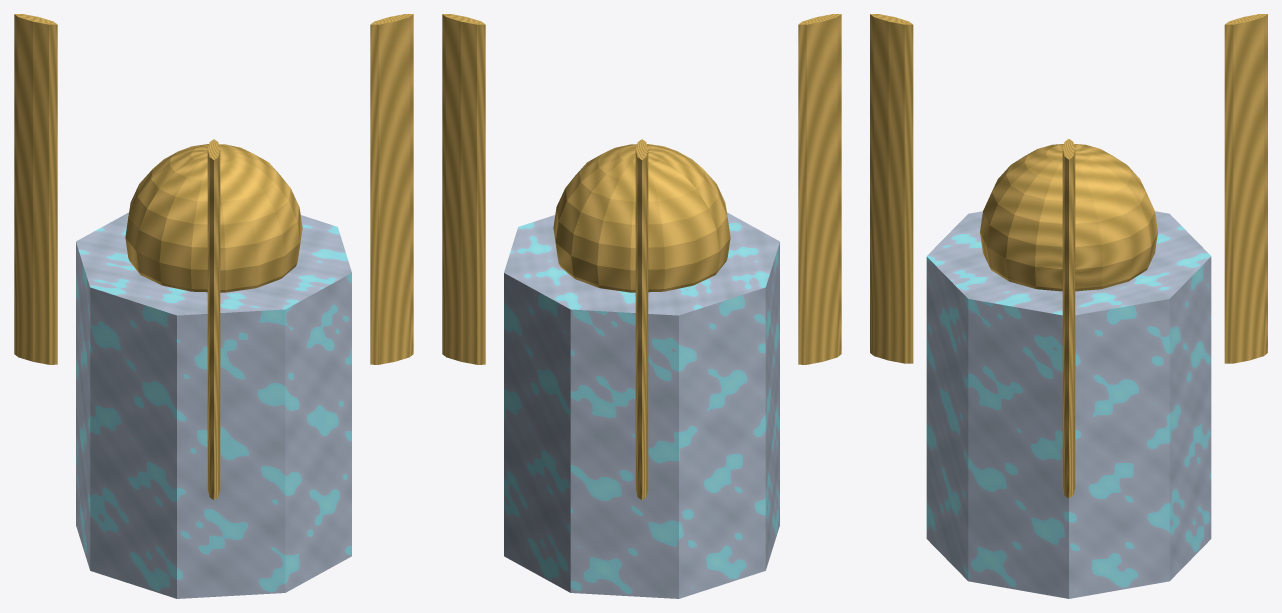
The model's file is vayu_windmill.glb.
The picture shows the model from 3 angles, left to right: view 1: azimuth 30°, elevation 25°; view 2: azimuth 150°, elevation 25°; view 3: azimuth 270°, elevation 25°; orthographic projection.
Parts seen in each view (by area): view 1: VayuWindTurbine; view 2: VayuWindTurbine; view 3: VayuWindTurbine.
Part boxes in pixels (x1=…): VayuWindTurbine: x1=14, y1=14, x2=413, y2=598; VayuWindTurbine: x1=442, y1=14, x2=841, y2=598; VayuWindTurbine: x1=870, y1=14, x2=1267, y2=598.
Bounding box in the file's own units: 4.18 × 5.9 × 4.47.
Materials: 3 (3 with a texture image).
